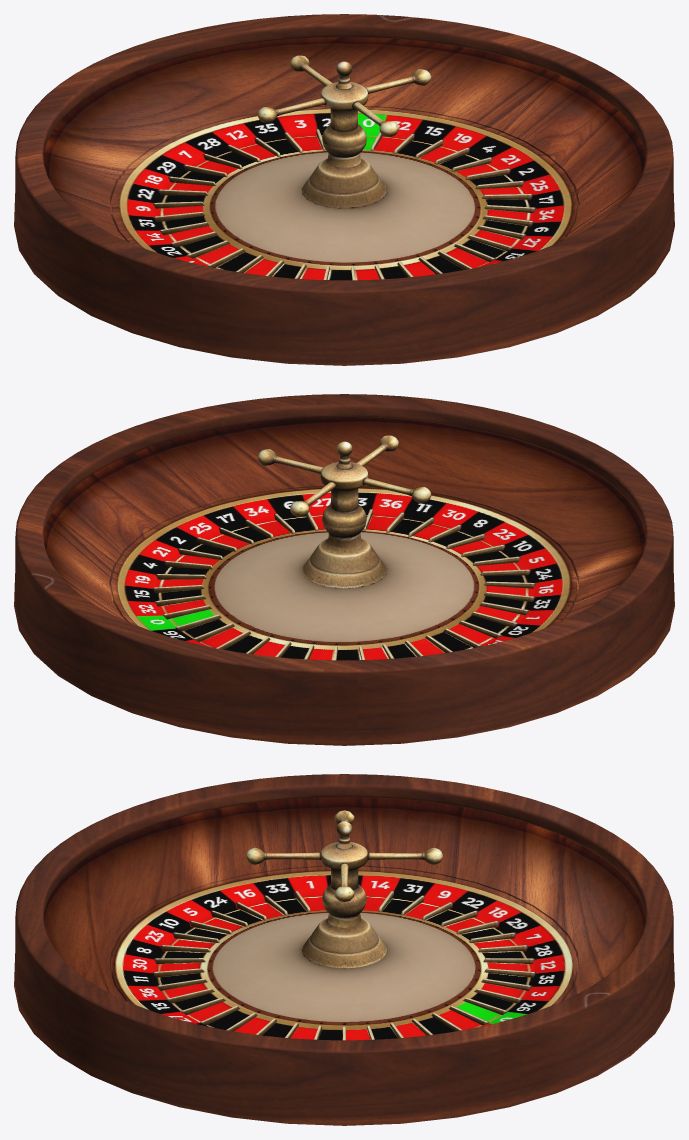
3 views of the same model, one above another, from view 1: azimuth 30°, elevation 25°; view 2: azimuth 150°, elevation 25°; view 3: azimuth 270°, elevation 25° (orthographic).
Parts seen in each view (by area): view 1: Circle5, Circle2, Circle4; view 2: Circle5, Circle2, Circle4; view 3: Circle5, Circle2, Circle4.
Part boxes in pixels (bbox=[...]): Circle5: bbox=[14, 14, 674, 365]; Circle2: bbox=[112, 106, 577, 280]; Circle4: bbox=[43, 37, 645, 240]; Circle5: bbox=[14, 394, 674, 745]; Circle2: bbox=[111, 486, 576, 660]; Circle4: bbox=[43, 417, 645, 620]; Circle5: bbox=[14, 774, 674, 1125]; Circle2: bbox=[111, 866, 577, 1040]; Circle4: bbox=[43, 797, 645, 1000].
Bounding box in the file's own units: 246 × 67.33 × 246.
Materials: 1 (1 with a texture image).
